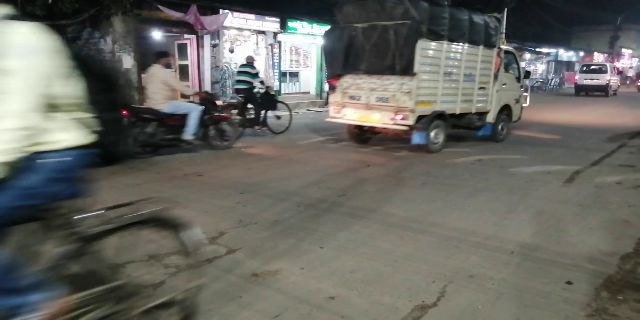Cycle: (208, 53, 297, 137)
Minitruck: (324, 1, 528, 149)
Motorbike: (121, 53, 238, 155)
Van: (574, 60, 622, 102)
